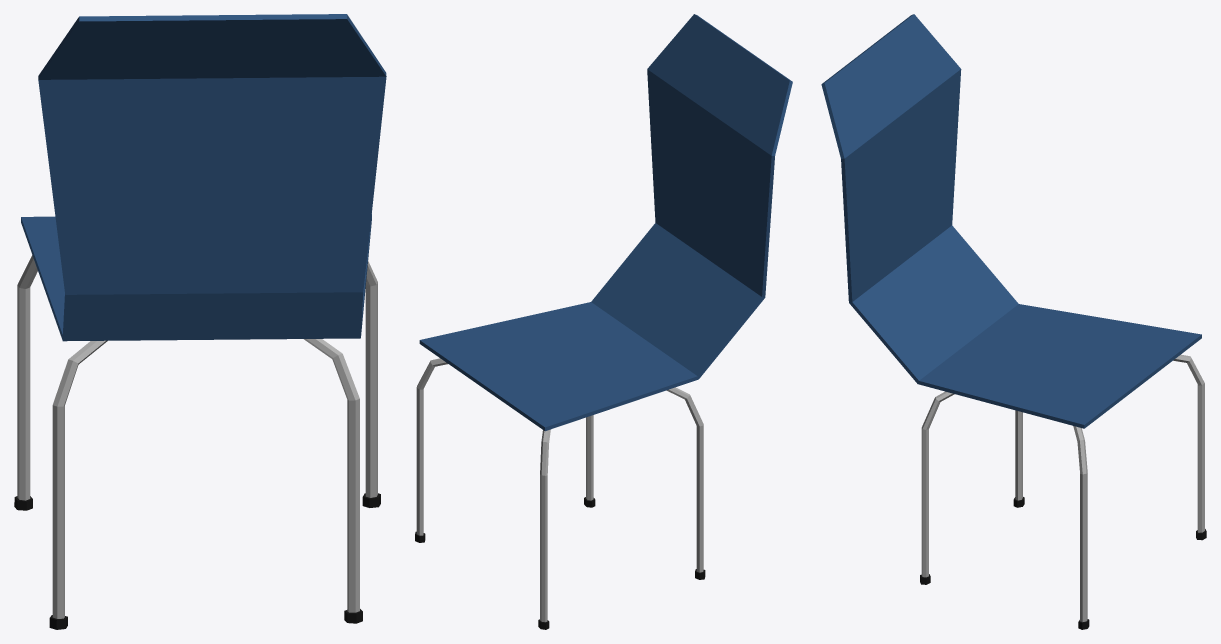
File: Chair 2.fbx
3 views of the same model, side by side, from view 1: azimuth 30°, elevation 25°; view 2: azimuth 150°, elevation 25°; view 3: azimuth 270°, elevation 25° (orthographic). The views are drawn at different scales.
Parts seen in each view (by area): view 1: Chair 2; view 2: Chair 2; view 3: Chair 2.
Part boxes in pixels (x1=…): Chair 2: x1=14, y1=14, x2=386, y2=629; Chair 2: x1=415, y1=14, x2=792, y2=629; Chair 2: x1=821, y1=14, x2=1206, y2=629.
Bounding box in the file's own units: 102 × 113 × 153.
